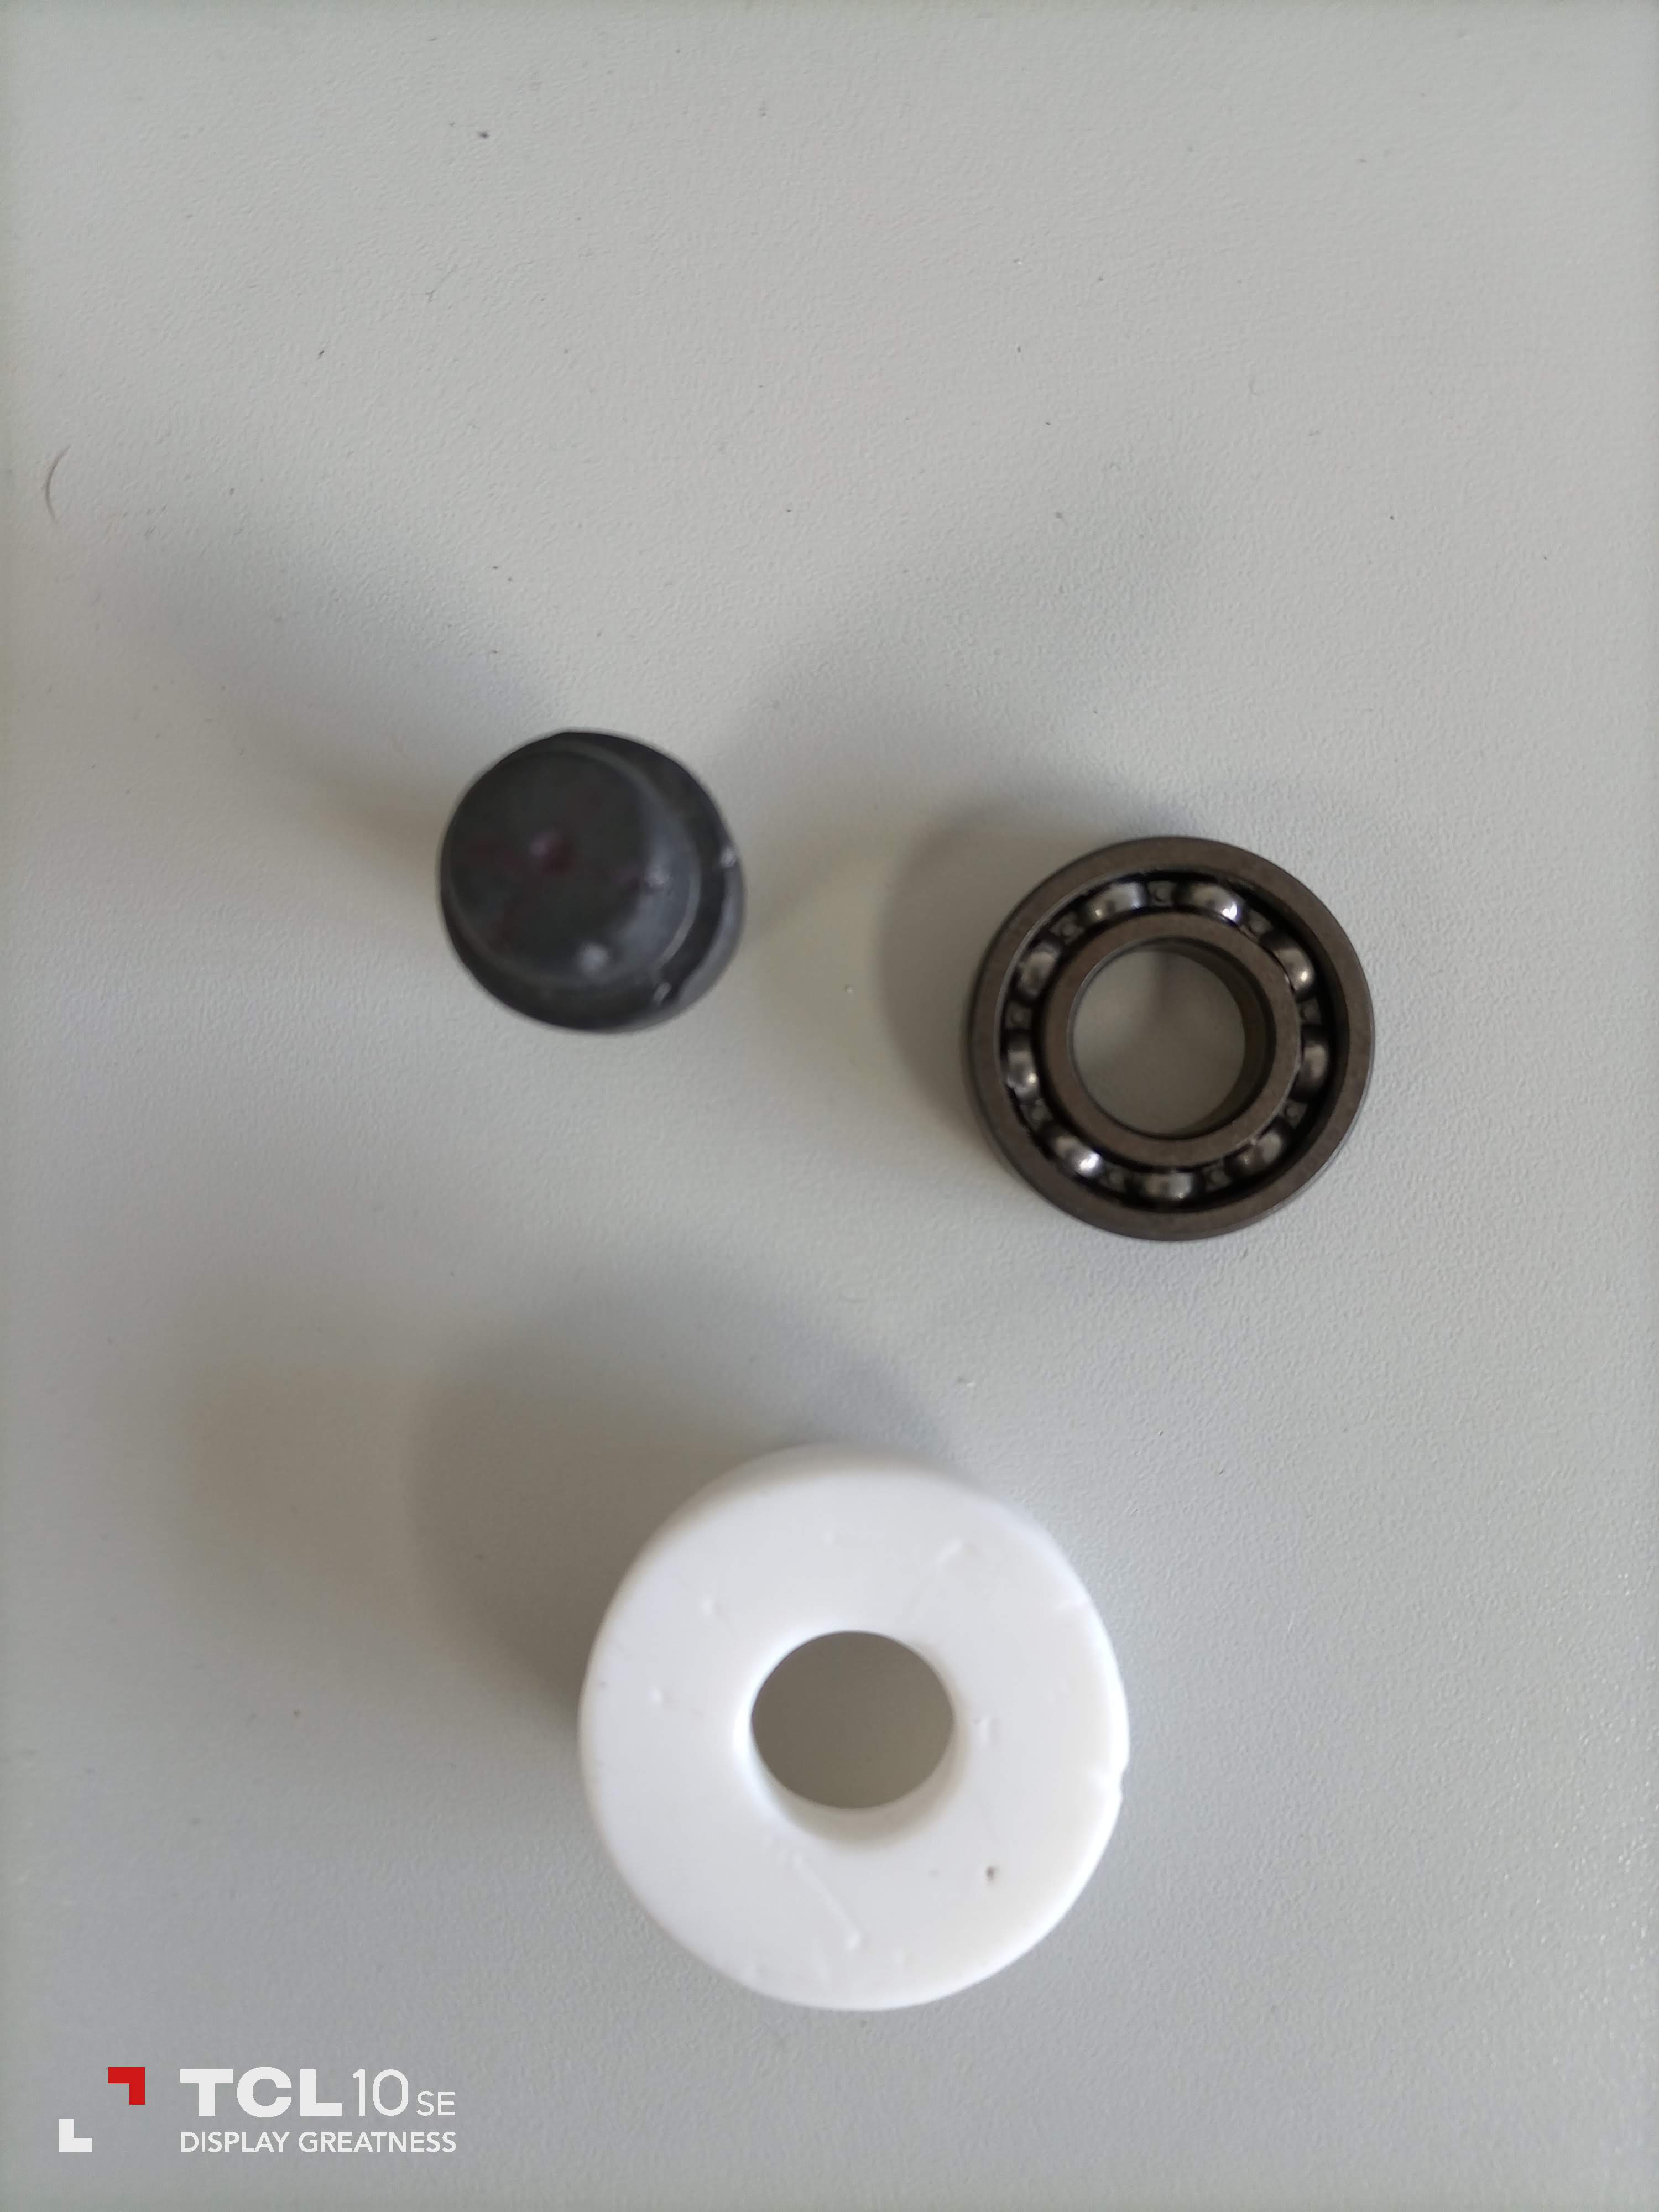Roda: (943, 833, 1419, 1294), (443, 726, 744, 1003)
Tapa: (582, 1426, 1117, 2008)
